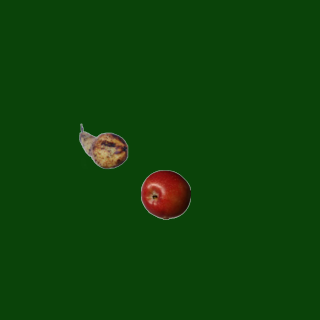Apple Braeburn: (140, 169, 190, 219)
Pear Abate: (78, 121, 128, 171)
